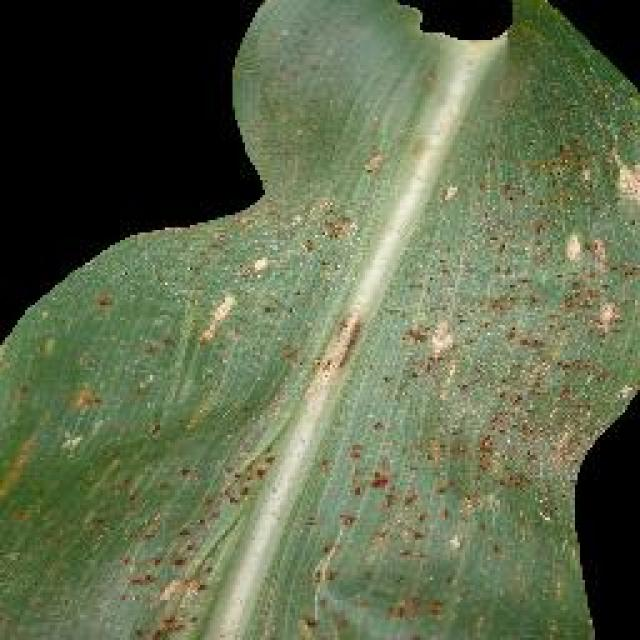Corn Common Rust: (135, 54, 593, 604)
